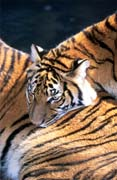Tigre: (28, 21, 117, 123)
